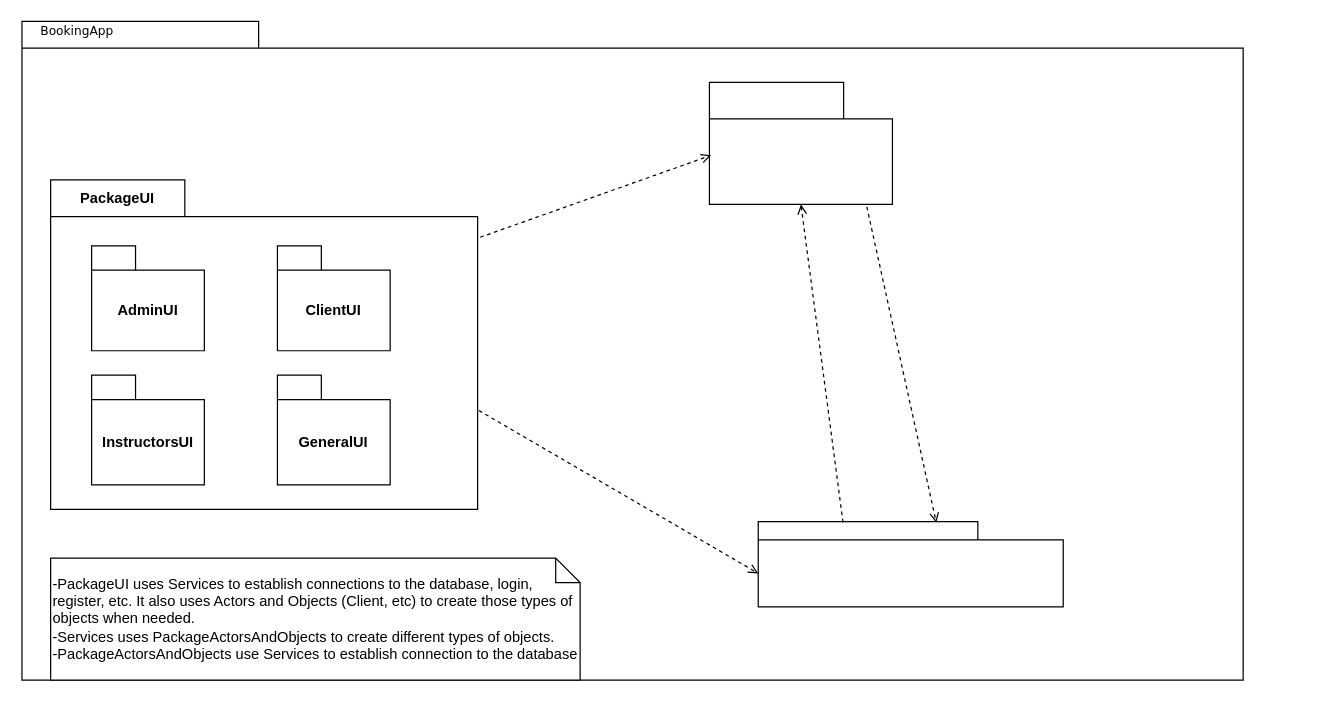
Some shapes in this 1327 by 702 pixel diagram are drawn without their labels. The shapes that lost their labels are listed below. From the top down, each one's centre as x and y in pixels, then its label:
At (800,142): "Services".
At (910,563): "PackageActorsAndObjects".
